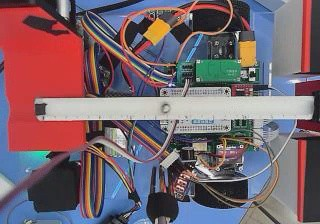ironball: (159, 100, 170, 113)
